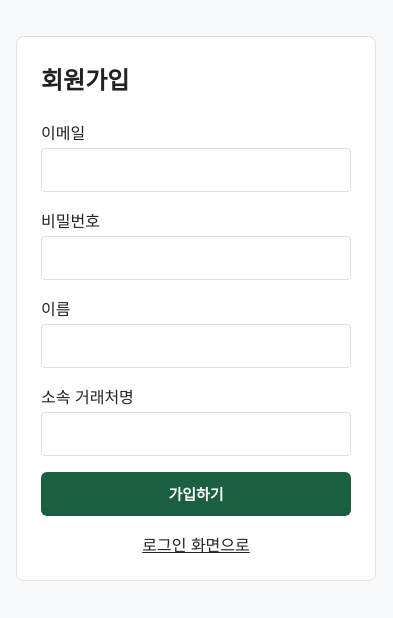
Test case: SignupPage › 회원가입 실패 시 에러 메시지를 표시한다
The image size is (393, 618).
Type "a@b.com" into the field labelled "이메일" at x=196, y=170, box [41,148,351,192]
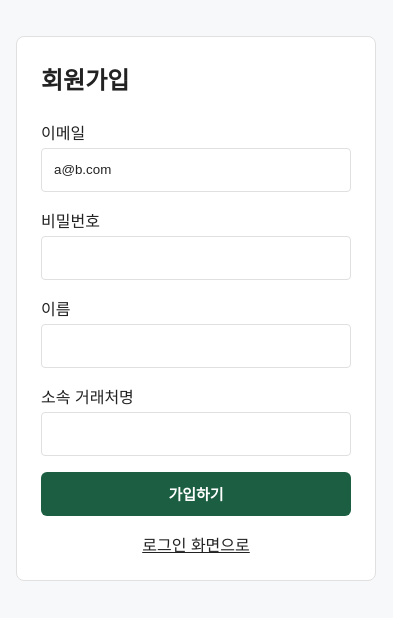
Type "password1" into the password field labelled "비밀번호" at x=196, y=258, box [41,236,351,280]
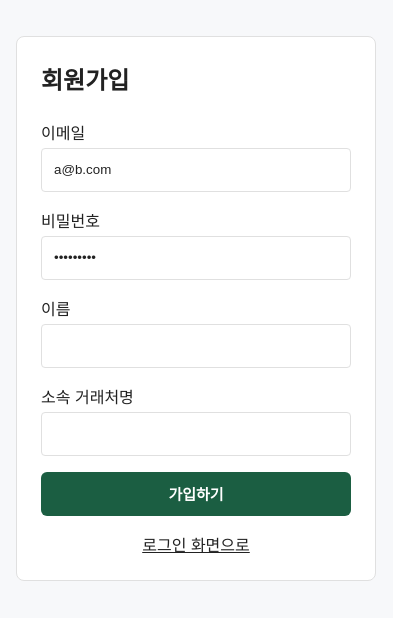
Type "홍길동" into the field labelled "이름" at x=196, y=346, box [41,324,351,368]
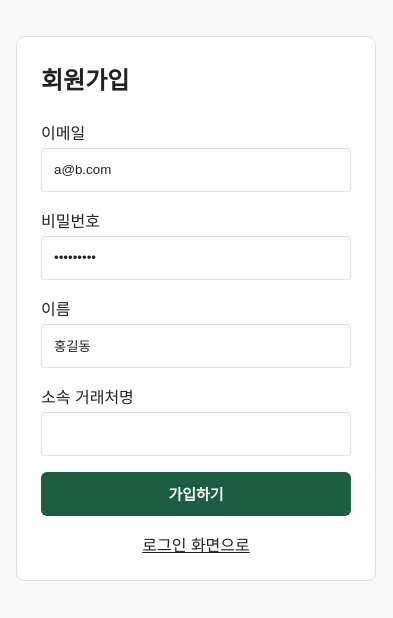
Type "테스트" into the field labelled "소속 거래처명" at x=196, y=434, box [41,412,351,456]
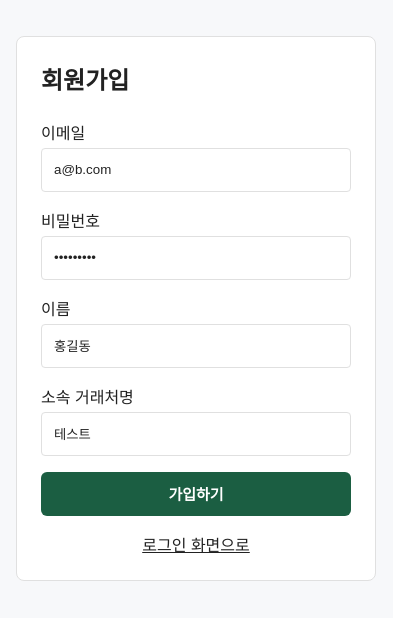
Click the button "가입하기" at x=196, y=494, box [41,472,351,516]
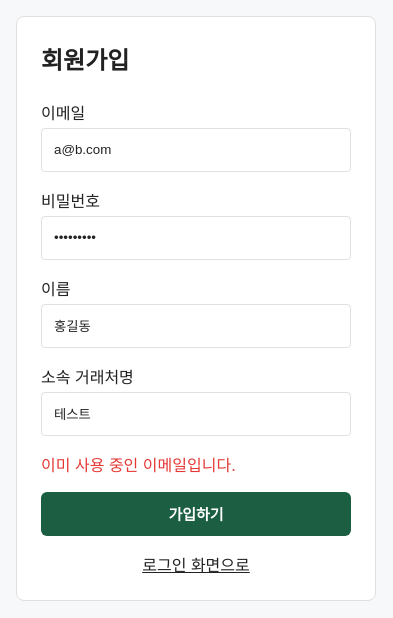
Result: the text "이미 사용 중인 이메일입니다." is shown at [41,454,236,474]
